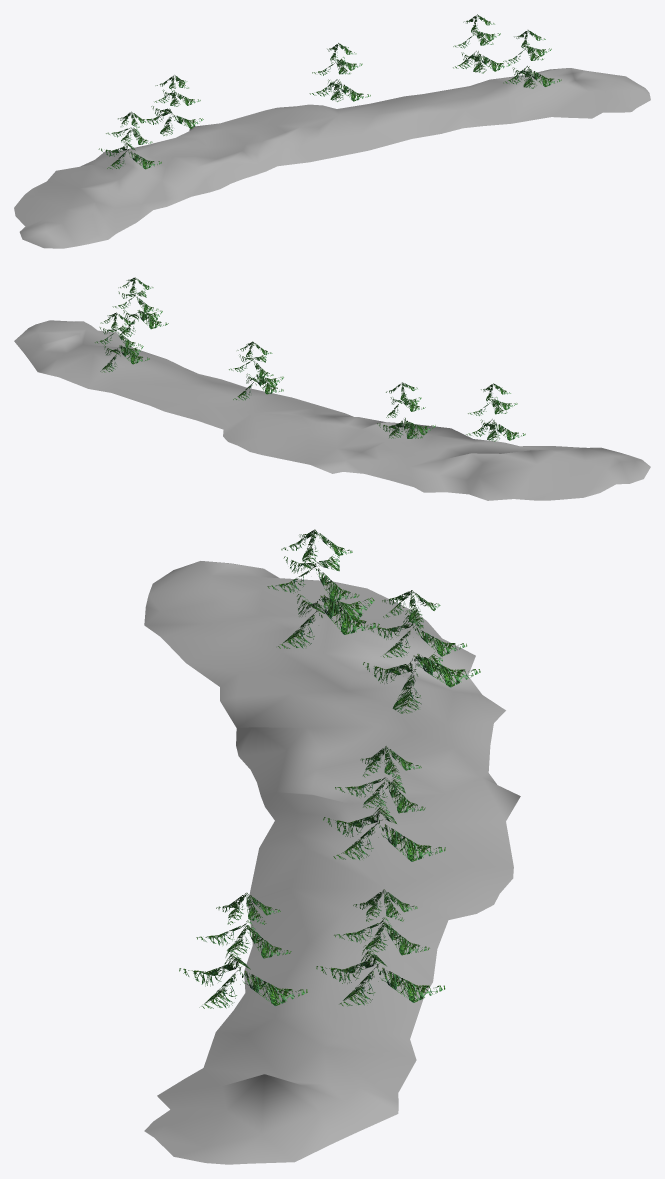
The model's file is Snow_Island_08.fbx.
3 renders of one model, top to bottom at view 1: azimuth 30°, elevation 25°; view 2: azimuth 150°, elevation 25°; view 3: azimuth 270°, elevation 25°, orthographic. The views are drawn at different scales.
Parts seen in each view (by area): view 1: Snow_Island_08; view 2: Snow_Island_08; view 3: Snow_Island_08.
Boxes of the visible parts, bbox=[...] form: Snow_Island_08: bbox=[14, 14, 650, 248]; Snow_Island_08: bbox=[14, 277, 650, 500]; Snow_Island_08: bbox=[144, 529, 520, 1164].
Size of the model in its own units: 0.5682 by 0.0831 by 0.1504.
Materials: 2 (1 with a texture image).
